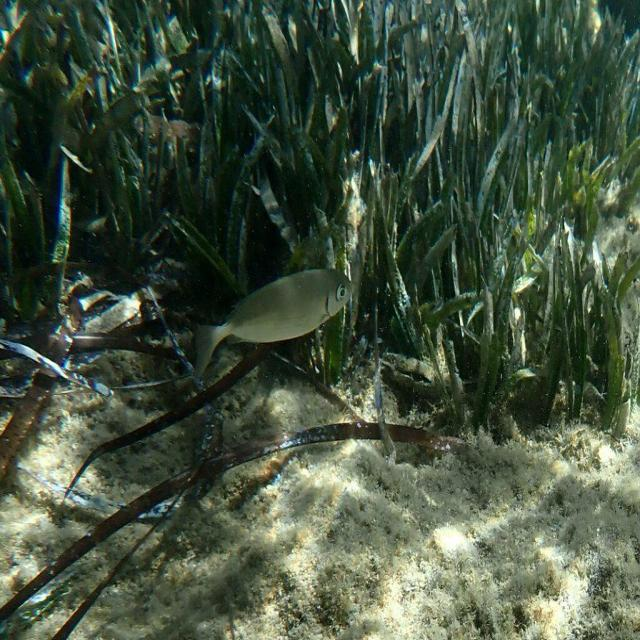Sokar Baligi: (181, 259, 361, 388)
